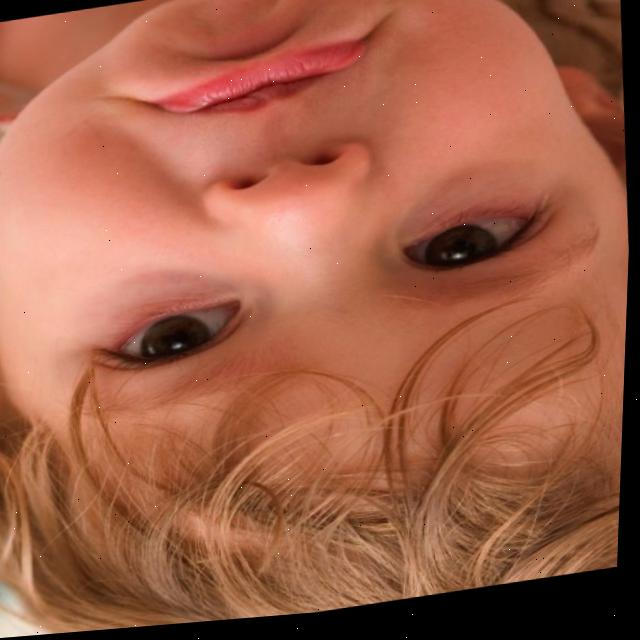surprised: (0, 0, 589, 492)
